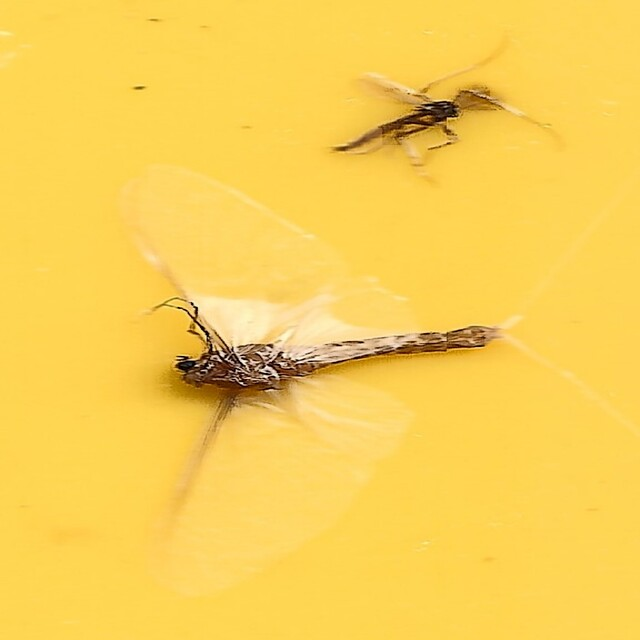Ephemeroptera: (111, 165, 529, 574)
Nematocera: (326, 66, 500, 157)
